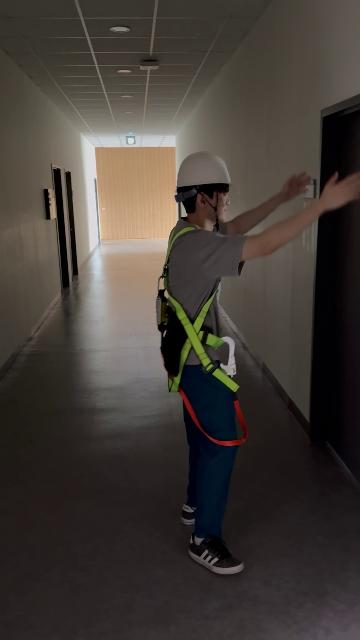helmet_worn: (174, 151, 232, 190)
shoe_not_worn: (189, 529, 246, 577), (181, 502, 196, 525)
vest_worn: (159, 229, 227, 385)
